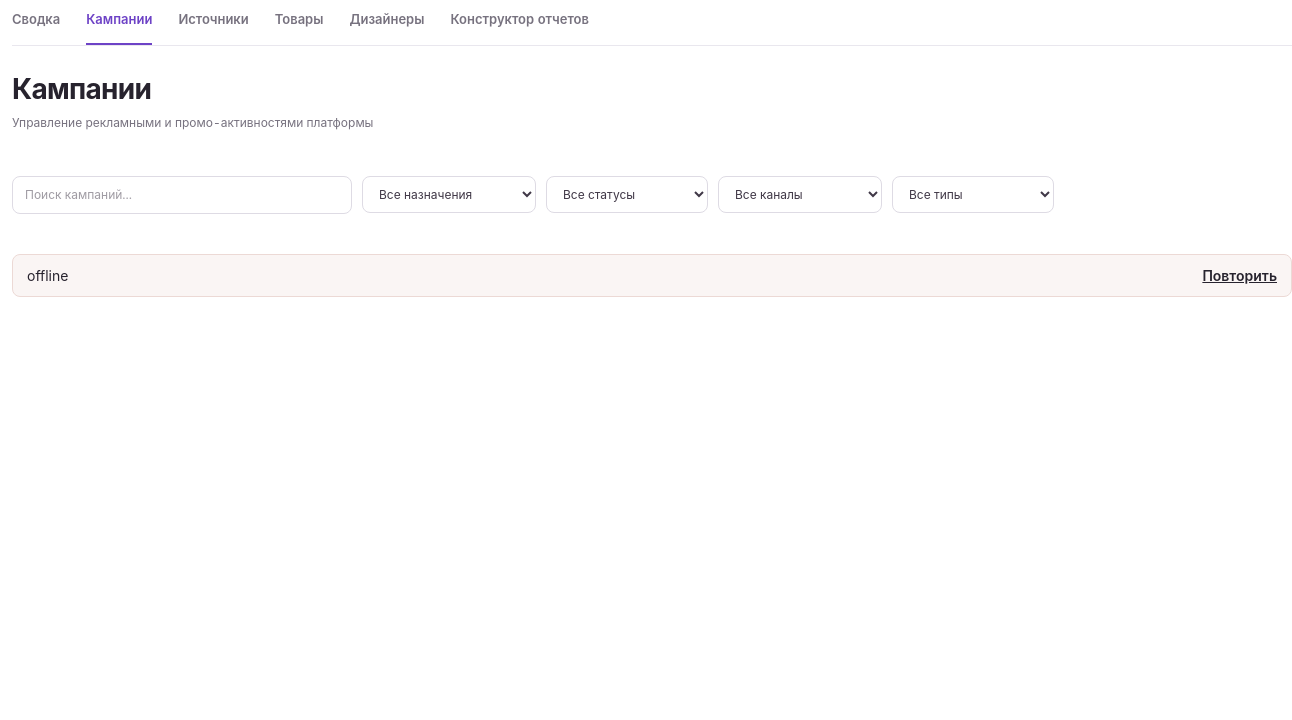
Test: Admin Marketing Operational Workspace (ADS.2A / C2.4) › Campaign List (AdminMarketingCampaigns) › shows recoverable error on network failure
Expected: the message "offline Повторить" is shown, [12, 254, 1291, 297]
Expected: the text "offline" is shown, [27, 265, 68, 286]
Step 1. Click the button "Повторить" → point(1240, 275), box [1202, 265, 1277, 286]
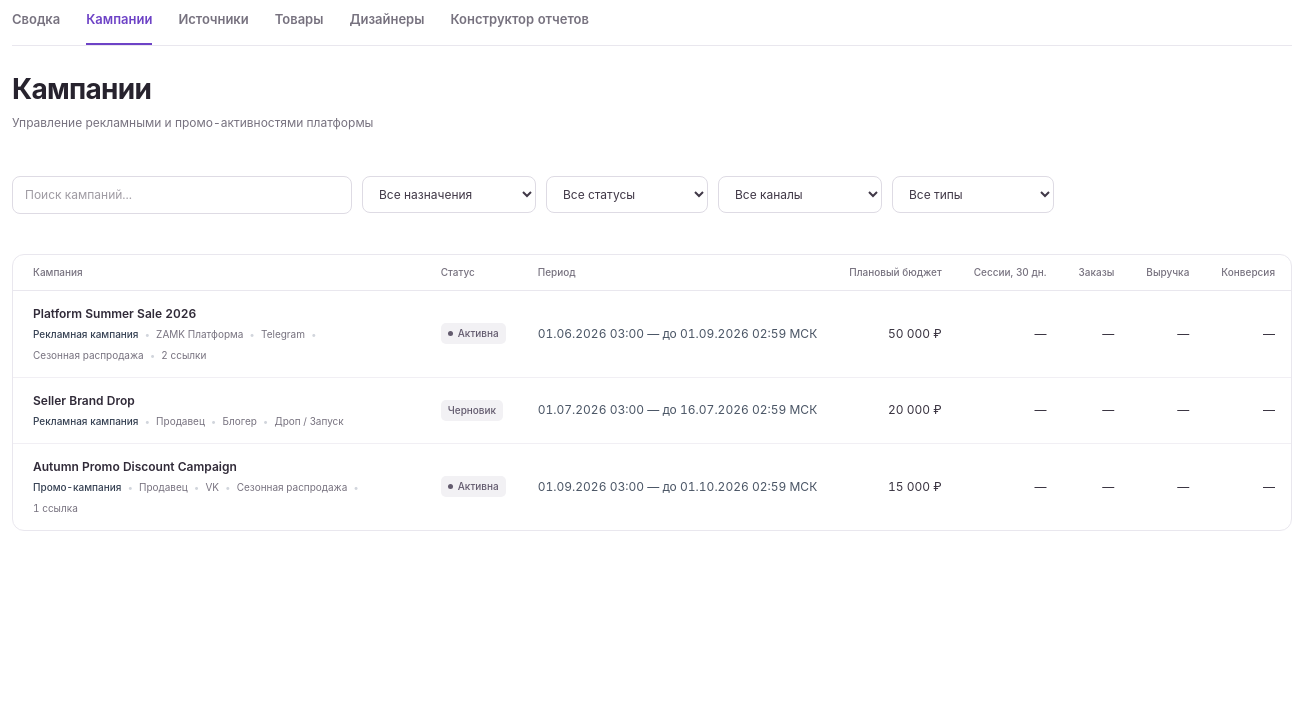
Now the link "Platform Summer Sale 2026" is shown, box [33, 306, 196, 321]
